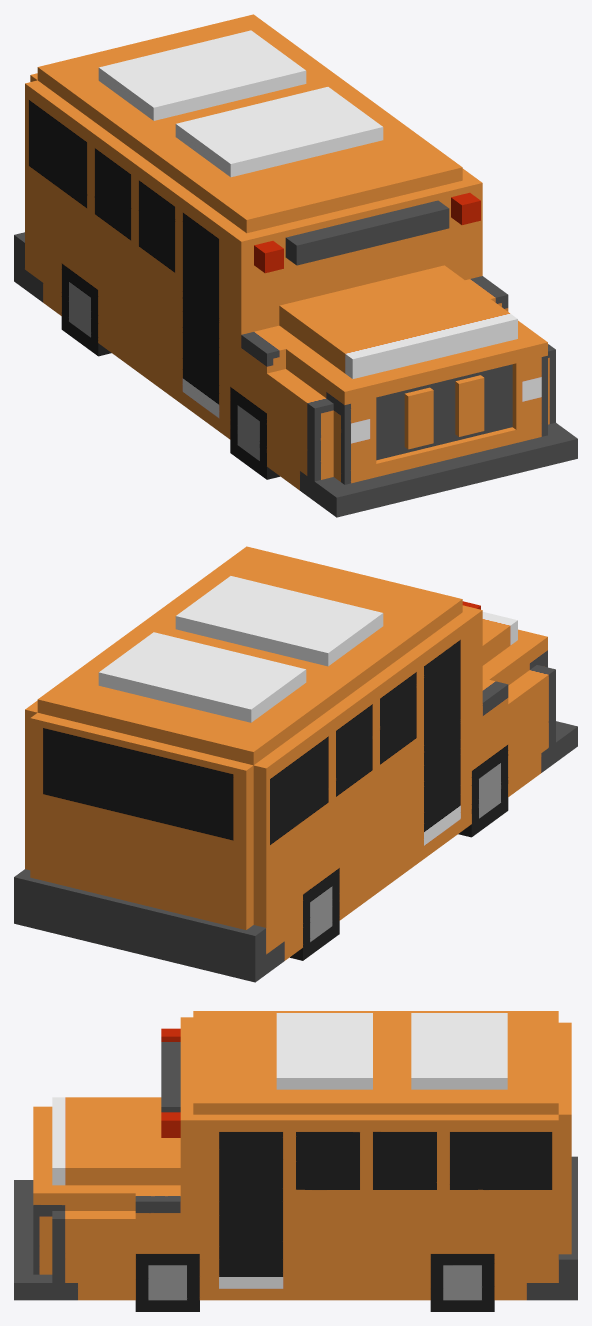
The model's file is Character_5.fbx.
3 renders of one model, top to bottom at view 1: azimuth 30°, elevation 25°; view 2: azimuth 150°, elevation 25°; view 3: azimuth 270°, elevation 25°, orthographic. The views are drawn at different scales.
Visible parts, largest first — view 1: Character_5; view 2: Character_5; view 3: Character_5.
Part boxes in pixels (x1,y1,x2,y2): Character_5: (14,14,577,517); Character_5: (14,546,577,982); Character_5: (14,1011,577,1311).
Size of the model in its own units: 38 by 37 by 88.
